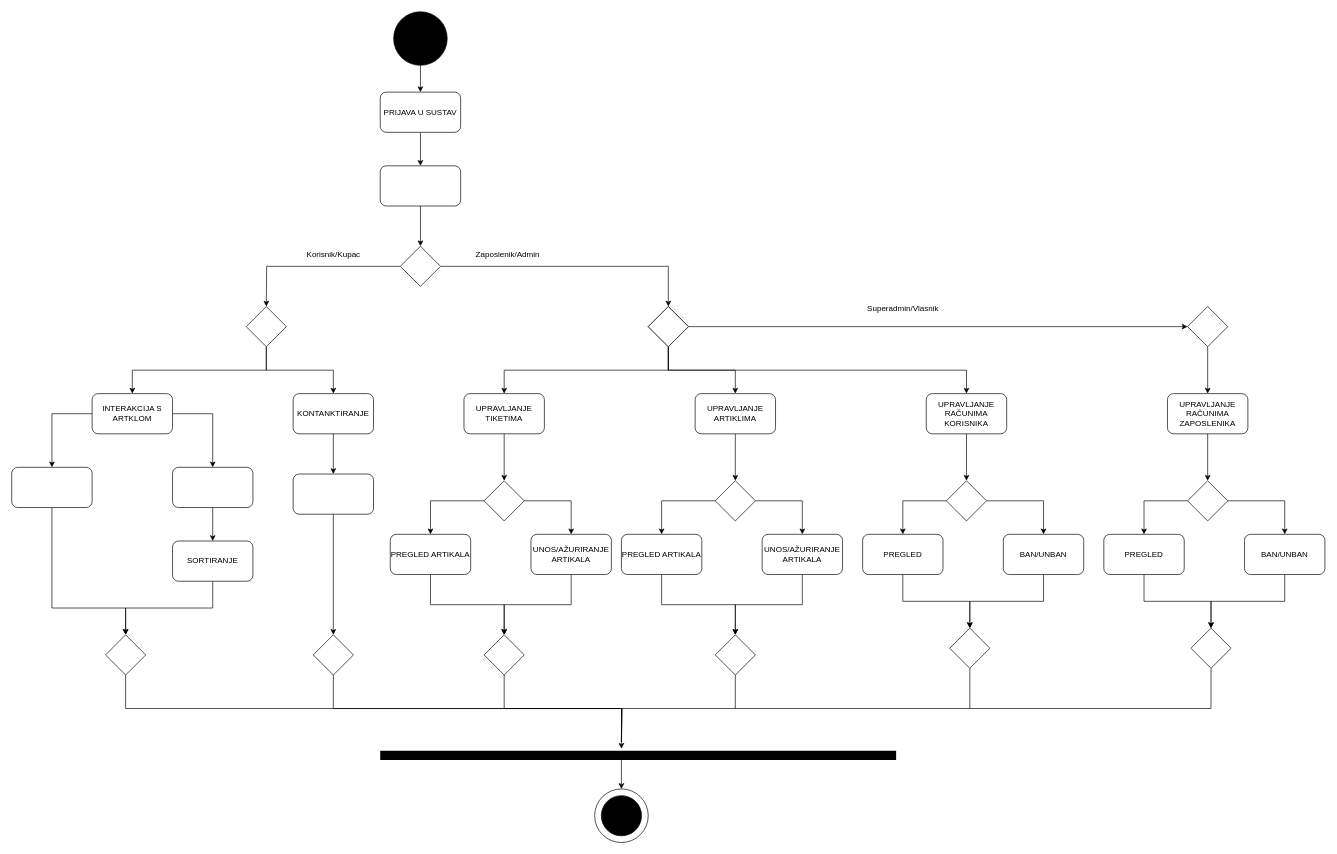
Image size: 1337x854. Some labels were removed from this diagram. The shapes that lost their labels are listed below. From the top down, each one's centre as x and y in pixels, then its label:
At pixel 420 185: "ODREDI KORISNIKA".
At pixel 51 487: "NARUČIVANJE".
At pixel 212 487: "PRETRAZIVANJE".
At pixel 333 493: "SLANJE TIKETA".
